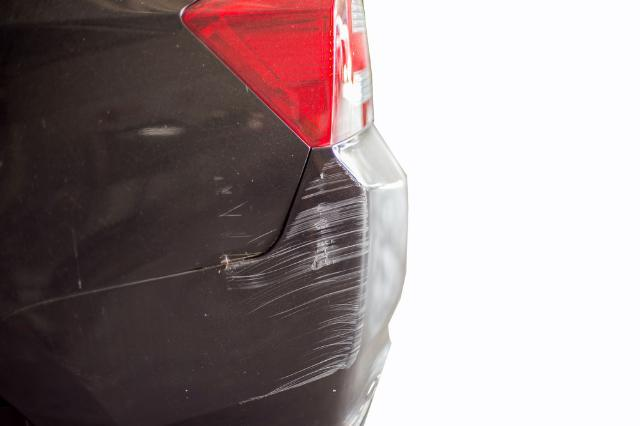scratch: (221, 156, 375, 408)
